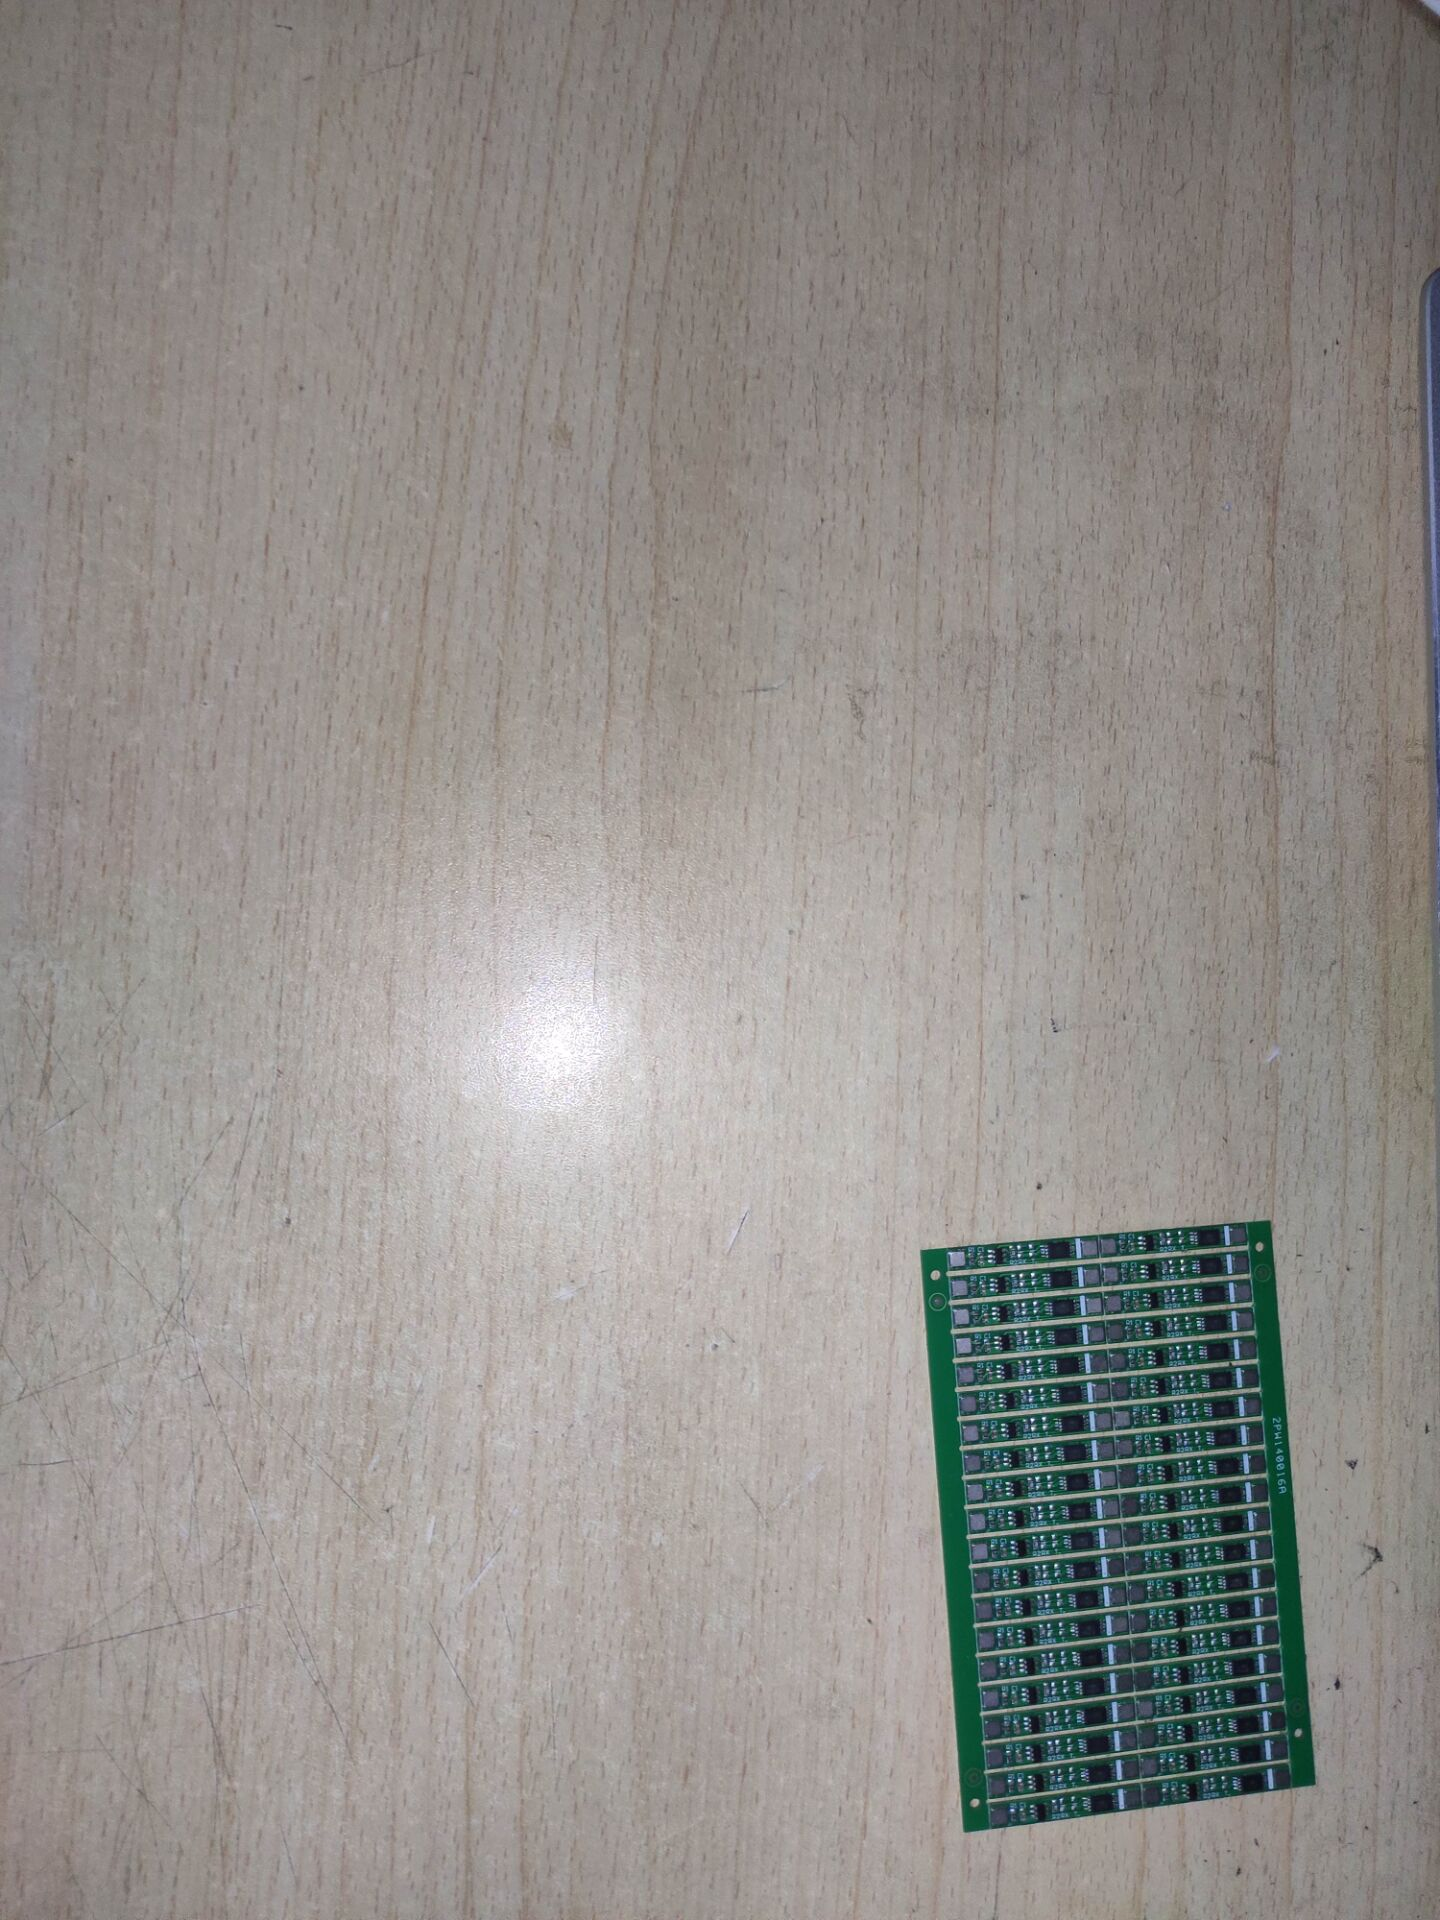point: (962, 1454, 984, 1471), (1139, 1728, 1158, 1746), (1139, 1758, 1159, 1776), (988, 1777, 1007, 1795), (1274, 1770, 1292, 1788), (1106, 1556, 1124, 1574), (1129, 1585, 1147, 1602), (992, 1808, 1010, 1826), (1251, 1480, 1267, 1499), (1132, 1642, 1151, 1659), (1144, 1786, 1163, 1802), (1265, 1654, 1282, 1671), (1269, 1713, 1287, 1730), (1092, 1414, 1110, 1430), (1111, 1615, 1127, 1632), (1120, 1733, 1137, 1749), (1119, 1466, 1136, 1484), (1135, 1701, 1153, 1718), (970, 1514, 986, 1531), (1232, 1257, 1251, 1272), (1268, 1683, 1283, 1703), (1122, 1526, 1142, 1541), (949, 1252, 968, 1267), (979, 1663, 998, 1678), (1234, 1284, 1251, 1300), (1115, 1409, 1132, 1426), (972, 1573, 990, 1589), (1254, 1512, 1269, 1530), (1258, 1568, 1274, 1586), (1261, 1597, 1277, 1614), (1091, 1356, 1109, 1371), (1101, 1469, 1117, 1488), (958, 1366, 975, 1382), (966, 1485, 984, 1499), (986, 1750, 1004, 1766), (1229, 1227, 1247, 1243), (1238, 1311, 1253, 1328), (1243, 1369, 1258, 1387), (1245, 1398, 1262, 1414), (1248, 1454, 1264, 1470), (1254, 1541, 1271, 1556), (1272, 1740, 1287, 1757), (1094, 1384, 1111, 1398), (1109, 1587, 1125, 1602), (1103, 1266, 1118, 1282), (1106, 1295, 1123, 1311), (1109, 1353, 1125, 1368), (1122, 1496, 1138, 1513), (1128, 1555, 1144, 1572), (1131, 1613, 1148, 1628), (953, 1310, 969, 1326), (955, 1337, 971, 1352), (972, 1544, 989, 1559), (976, 1604, 993, 1619), (985, 1720, 1002, 1736), (1080, 1243, 1098, 1256), (1084, 1270, 1103, 1284), (1115, 1644, 1129, 1661), (961, 1427, 980, 1440), (1249, 1426, 1264, 1441), (1263, 1625, 1278, 1640), (1117, 1675, 1132, 1690), (1107, 1324, 1123, 1339), (1113, 1382, 1129, 1397), (961, 1397, 976, 1412), (1096, 1441, 1113, 1455), (1123, 1762, 1139, 1775), (1240, 1341, 1256, 1355), (1086, 1298, 1100, 1314), (1089, 1326, 1104, 1340), (1102, 1500, 1117, 1515), (1125, 1793, 1140, 1806), (1100, 1239, 1115, 1253), (1116, 1440, 1132, 1453), (1137, 1673, 1153, 1687), (951, 1283, 967, 1297), (1105, 1530, 1120, 1544), (1119, 1705, 1135, 1718), (979, 1634, 993, 1647), (984, 1693, 998, 1706)
